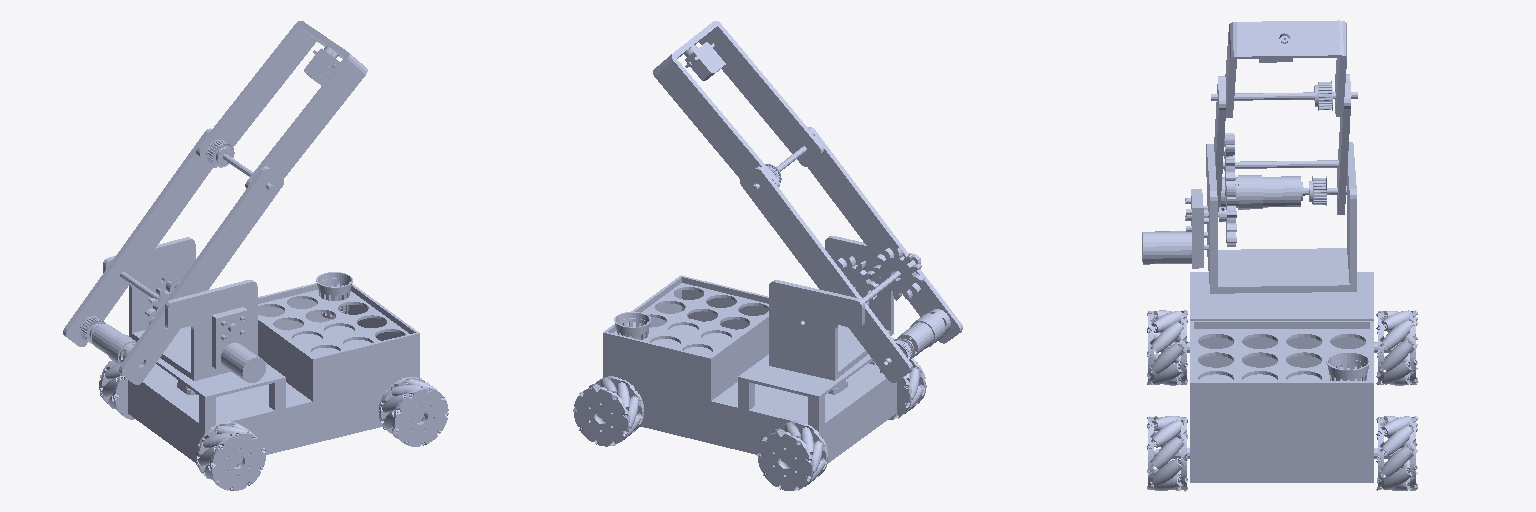
URDF robot description (Manipulator2_URDF1):
<?xml version="1.0" encoding="utf-8"?>
<!-- This URDF was automatically created by SolidWorks to URDF Exporter! Originally created by [author] ([email redacted]) 
     Commit Version: 1.6.0-1-g15f4949  Build Version: 1.6.7594.29634
     For more information, please see http://wiki.ros.org/sw_urdf_exporter -->
<robot
  name="Manipulator2_URDF1">
  <link
    name="Ground_link">
    <inertial>
      <origin
        xyz="0.15942 0.00022321 0.056553"
        rpy="0 0 0" />
      <mass
        value="3.2586" />
      <inertia
        ixx="0.020199"
        ixy="-1.9577E-12"
        ixz="0.002049"
        iyy="0.034263"
        iyz="-1.7026E-07"
        izz="0.047317" />
    </inertial>
    <visual>
      <origin
        xyz="0 0 0"
        rpy="0 0 0" />
      <geometry>
        <mesh
          filename="package://Manipulator2_URDF1/meshes/Ground_link.STL" />
      </geometry>
      <material
        name="">
        <color
          rgba="0.79216 0.81961 0.93333 1" />
      </material>
    </visual>
    <collision>
      <origin
        xyz="0 0 0"
        rpy="0 0 0" />
      <geometry>
        <mesh
          filename="package://Manipulator2_URDF1/meshes/Ground_link.STL" />
      </geometry>
    </collision>
  </link>
  <link
    name="Base_Link">
    <inertial>
      <origin
        xyz="-0.0052112 -0.035227 -0.041033"
        rpy="0 0 0" />
      <mass
        value="0.88251" />
      <inertia
        ixx="0.0061551"
        ixy="-5.346E-12"
        ixz="0.00029044"
        iyy="0.0028459"
        iyz="-5.6663E-05"
        izz="0.005462" />
    </inertial>
    <visual>
      <origin
        xyz="0 0 0"
        rpy="0 0 0" />
      <geometry>
        <mesh
          filename="package://Manipulator2_URDF1/meshes/Base_Link.STL" />
      </geometry>
      <material
        name="">
        <color
          rgba="0.79216 0.81961 0.93333 1" />
      </material>
    </visual>
    <collision>
      <origin
        xyz="0 0 0"
        rpy="0 0 0" />
      <geometry>
        <mesh
          filename="package://Manipulator2_URDF1/meshes/Base_Link.STL" />
      </geometry>
    </collision>
  </link>
  <joint
    name="J_1"
    type="continuous">
    <origin
      xyz="0 0 0.2469"
      rpy="0 0 0.031005" />
    <parent
      link="Ground_link" />
    <child
      link="Base_Link" />
    <axis
      xyz="0 0 1" />
  </joint>
  <link
    name="Shoulder_Link">
    <inertial>
      <origin
        xyz="-0.0033732 -0.0035529 -0.0013357"
        rpy="0 0 0" />
      <mass
        value="0.79086" />
      <inertia
        ixx="0.003265"
        ixy="-0.0027194"
        ixz="7.6353E-05"
        iyy="0.0029202"
        iyz="8.434E-05"
        izz="0.0057241" />
    </inertial>
    <visual>
      <origin
        xyz="0 0 0"
        rpy="0 0 0" />
      <geometry>
        <mesh
          filename="package://Manipulator2_URDF1/meshes/Shoulder_Link.STL" />
      </geometry>
      <material
        name="">
        <color
          rgba="0.79216 0.81961 0.93333 1" />
      </material>
    </visual>
    <collision>
      <origin
        xyz="0 0 0"
        rpy="0 0 0" />
      <geometry>
        <mesh
          filename="package://Manipulator2_URDF1/meshes/Shoulder_Link.STL" />
      </geometry>
    </collision>
  </link>
  <joint
    name="J_2"
    type="continuous">
    <origin
      xyz="-0.085 0 0.028102"
      rpy="1.5708 0 -0.031005" />
    <parent
      link="Base_Link" />
    <child
      link="Shoulder_Link" />
    <axis
      xyz="-0.031 0 -0.99952" />
  </joint>
  <link
    name="Elbow_Link">
    <inertial>
      <origin
        xyz="0.061841 0.089272 -0.014547"
        rpy="0 0 0" />
      <mass
        value="0.58269" />
      <inertia
        ixx="0.003002"
        ixy="-0.0012758"
        ixz="-6.5052E-06"
        iyy="0.0031496"
        iyz="4.1321E-05"
        izz="0.0027328" />
    </inertial>
    <visual>
      <origin
        xyz="0 0 0"
        rpy="0 0 0" />
      <geometry>
        <mesh
          filename="package://Manipulator2_URDF1/meshes/Elbow_Link.STL" />
      </geometry>
      <material
        name="">
        <color
          rgba="0.79216 0.81961 0.93333 1" />
      </material>
    </visual>
    <collision>
      <origin
        xyz="0 0 0"
        rpy="0 0 0" />
      <geometry>
        <mesh
          filename="package://Manipulator2_URDF1/meshes/Elbow_Link.STL" />
      </geometry>
    </collision>
  </link>
  <joint
    name="J_3"
    type="continuous">
    <origin
      xyz="0.18653 0.16635 -0.0057853"
      rpy="0 0 0" />
    <parent
      link="Shoulder_Link" />
    <child
      link="Elbow_Link" />
    <axis
      xyz="-0.031 0 -0.99952" />
  </joint>
</robot>

--- Render facts (derived) ---
3 views of the same robot in one strip: view 1: azimuth 30°, elevation 25°; view 2: azimuth 150°, elevation 25°; view 3: azimuth 270°, elevation 25° (orthographic).
Model Manipulator2_URDF1 with 4 links and 3 joints (3 continuous), rooted at Ground_link, posed every joint at zero.
Visible links, largest first — view 1: Ground_link, Shoulder_Link, Base_Link, Elbow_Link; view 2: Ground_link, Shoulder_Link, Base_Link, Elbow_Link; view 3: Ground_link, Base_Link, Elbow_Link, Shoulder_Link.
Link boxes in pixels (bbox=[...]): Ground_link: bbox=[99, 272, 448, 490]; Shoulder_Link: bbox=[63, 128, 283, 384]; Base_Link: bbox=[103, 237, 265, 382]; Elbow_Link: bbox=[196, 21, 367, 190]; Ground_link: bbox=[573, 275, 926, 490]; Shoulder_Link: bbox=[740, 127, 962, 382]; Base_Link: bbox=[769, 236, 920, 380]; Elbow_Link: bbox=[653, 21, 823, 190]; Ground_link: bbox=[1147, 272, 1417, 491]; Base_Link: bbox=[1142, 142, 1356, 293]; Elbow_Link: bbox=[1211, 20, 1357, 117]; Shoulder_Link: bbox=[1214, 74, 1350, 214].
Bounding box of the posed robot: 0.5663 × 0.3756 × 0.6686 m (x, y, z).
4 mesh visuals loaded from 4 distinct referenced files (4 binary STL).